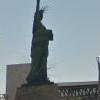Statue: (21, 5, 57, 89)
